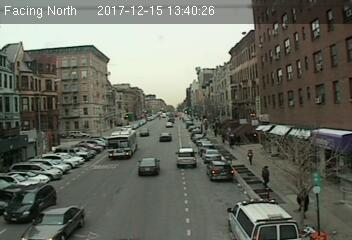bus: (108, 129, 137, 158)
car: (16, 206, 89, 240), (2, 184, 57, 222), (207, 159, 233, 181), (175, 147, 198, 168), (137, 158, 160, 175), (202, 149, 220, 162), (158, 132, 172, 142)
pedestrian: (261, 160, 271, 190), (245, 147, 254, 166)
police: (226, 196, 300, 240)
